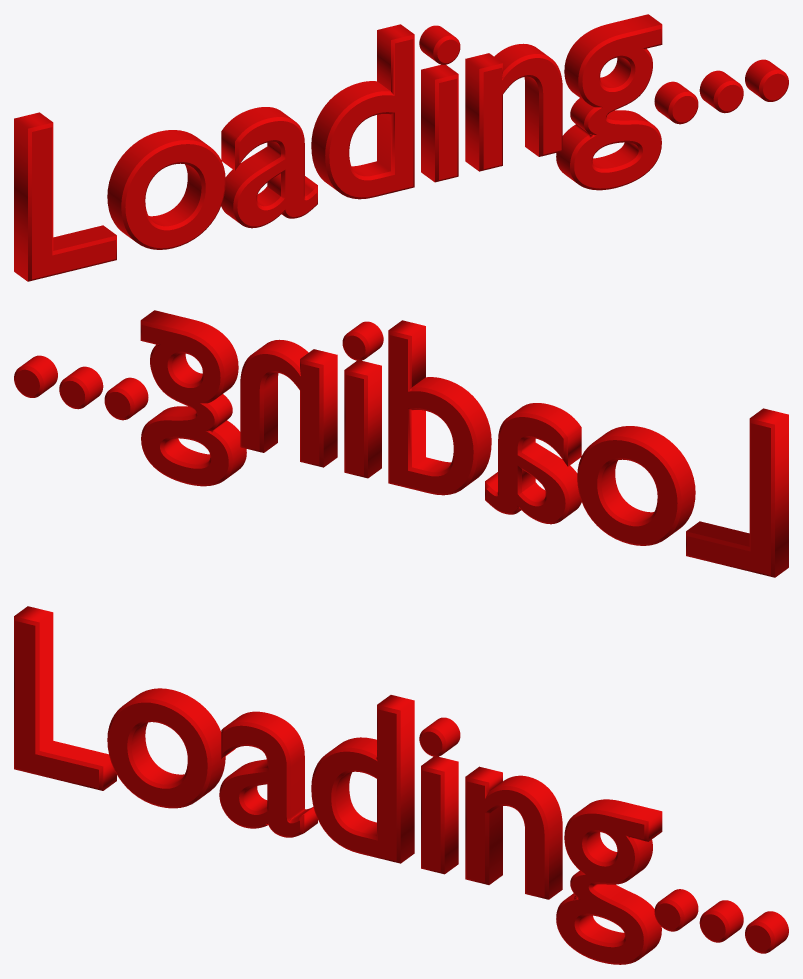
Rendered from loadtext.dae.
The picture shows the model from 3 angles, top to bottom: view 1: azimuth 30°, elevation 25°; view 2: azimuth 150°, elevation 25°; view 3: azimuth 330°, elevation 25°; orthographic projection.
Visible parts, largest first — view 1: Text; view 2: Text; view 3: Text.
Boxes of the visible parts, x1,y1,x2,y2 form: Text: [14, 14, 788, 281]; Text: [14, 310, 788, 577]; Text: [14, 606, 788, 964].
Bounding box in the file's own units: 0.3684 × 0.0142 × 0.0938.
